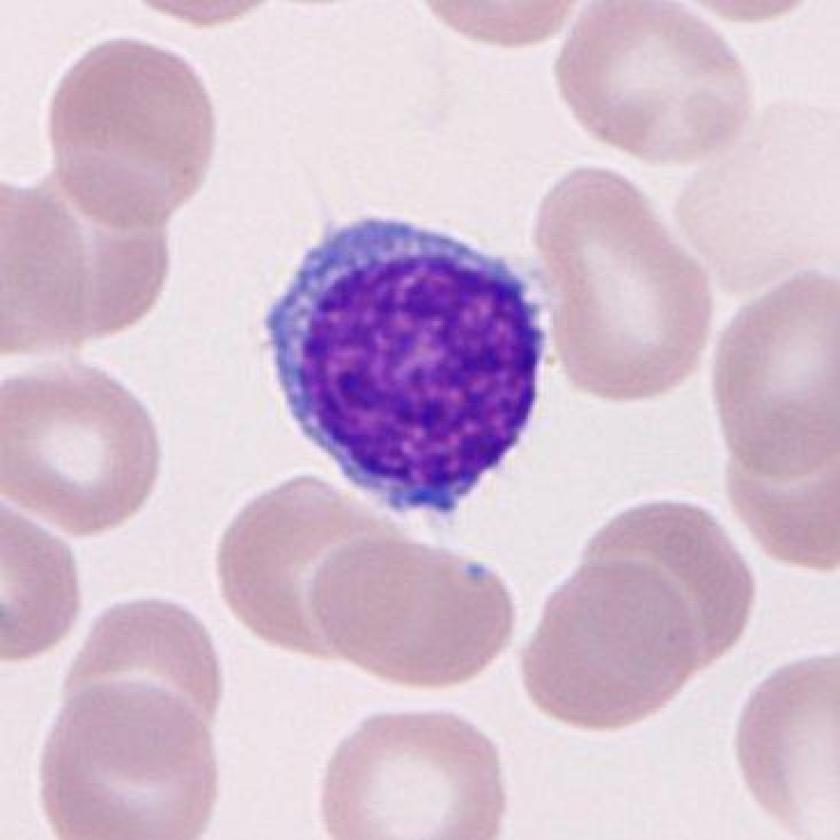lymphocyte: (254, 197, 564, 540)
